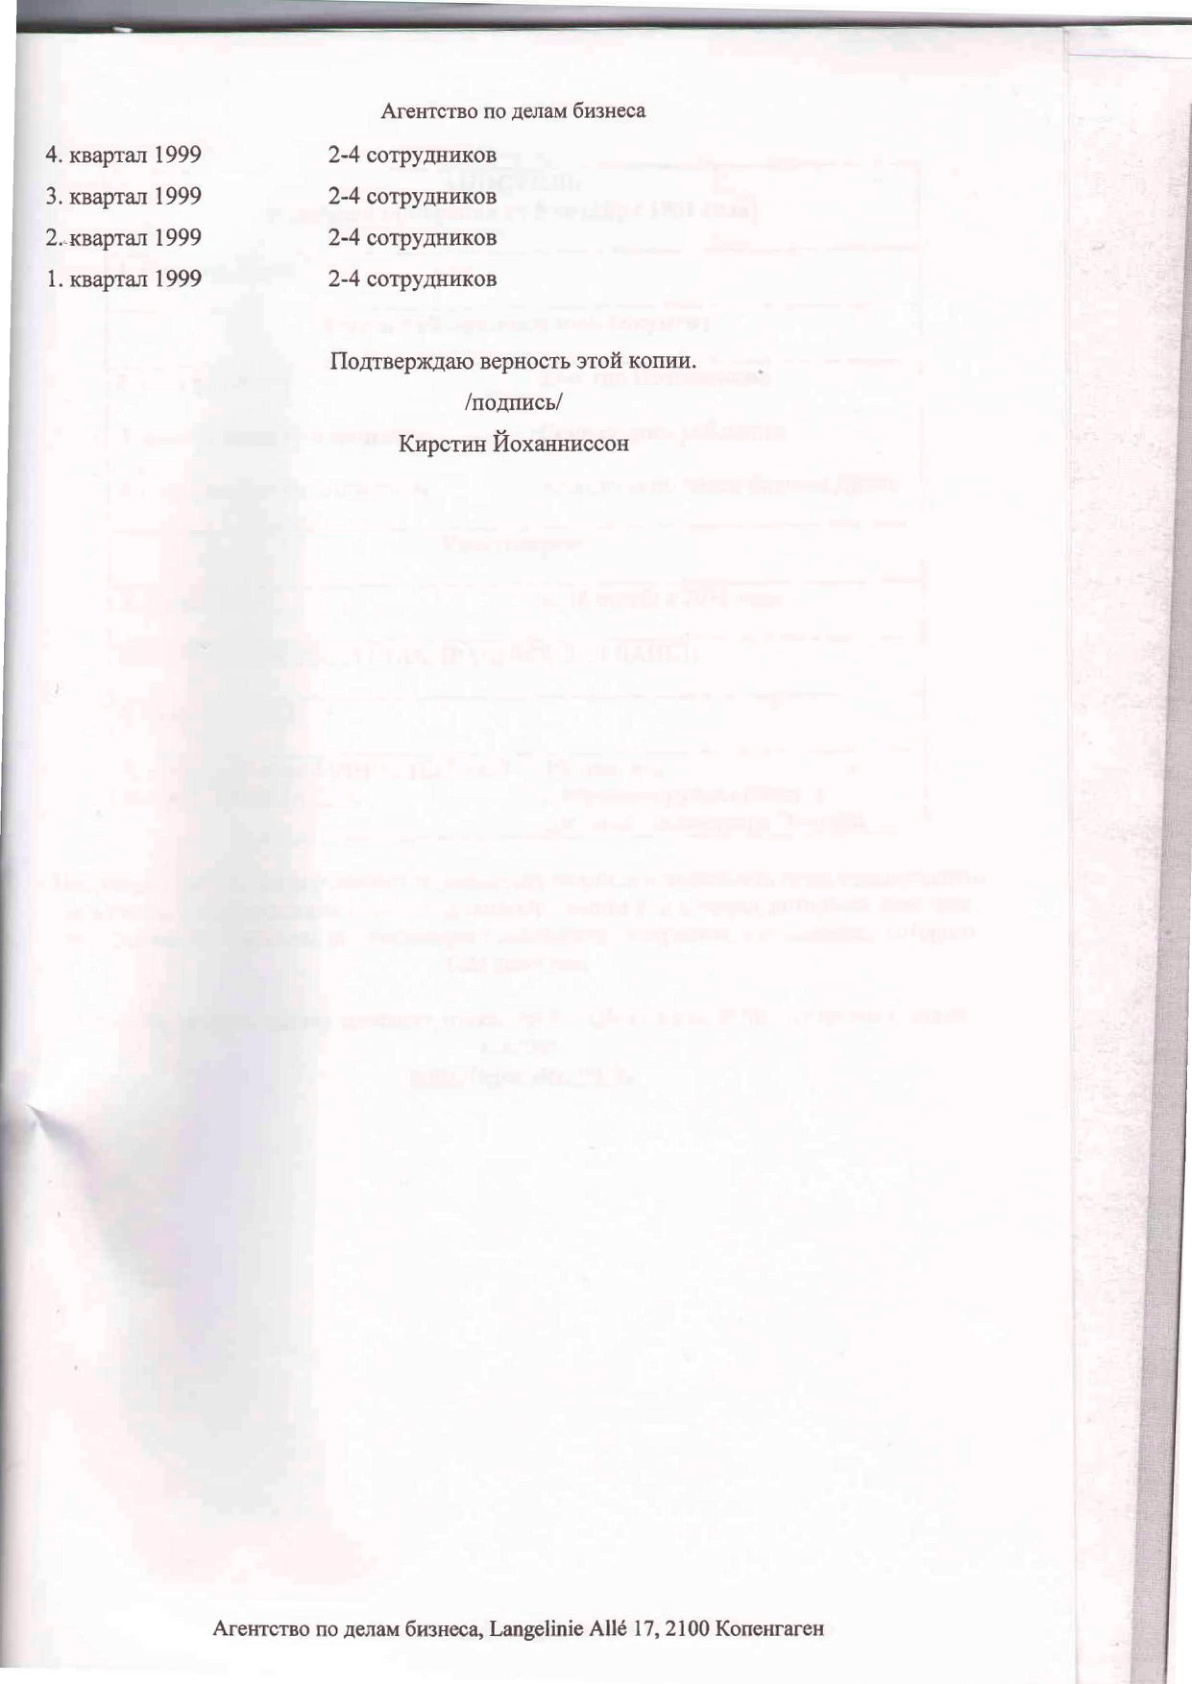nolines: (41, 141, 501, 293)
